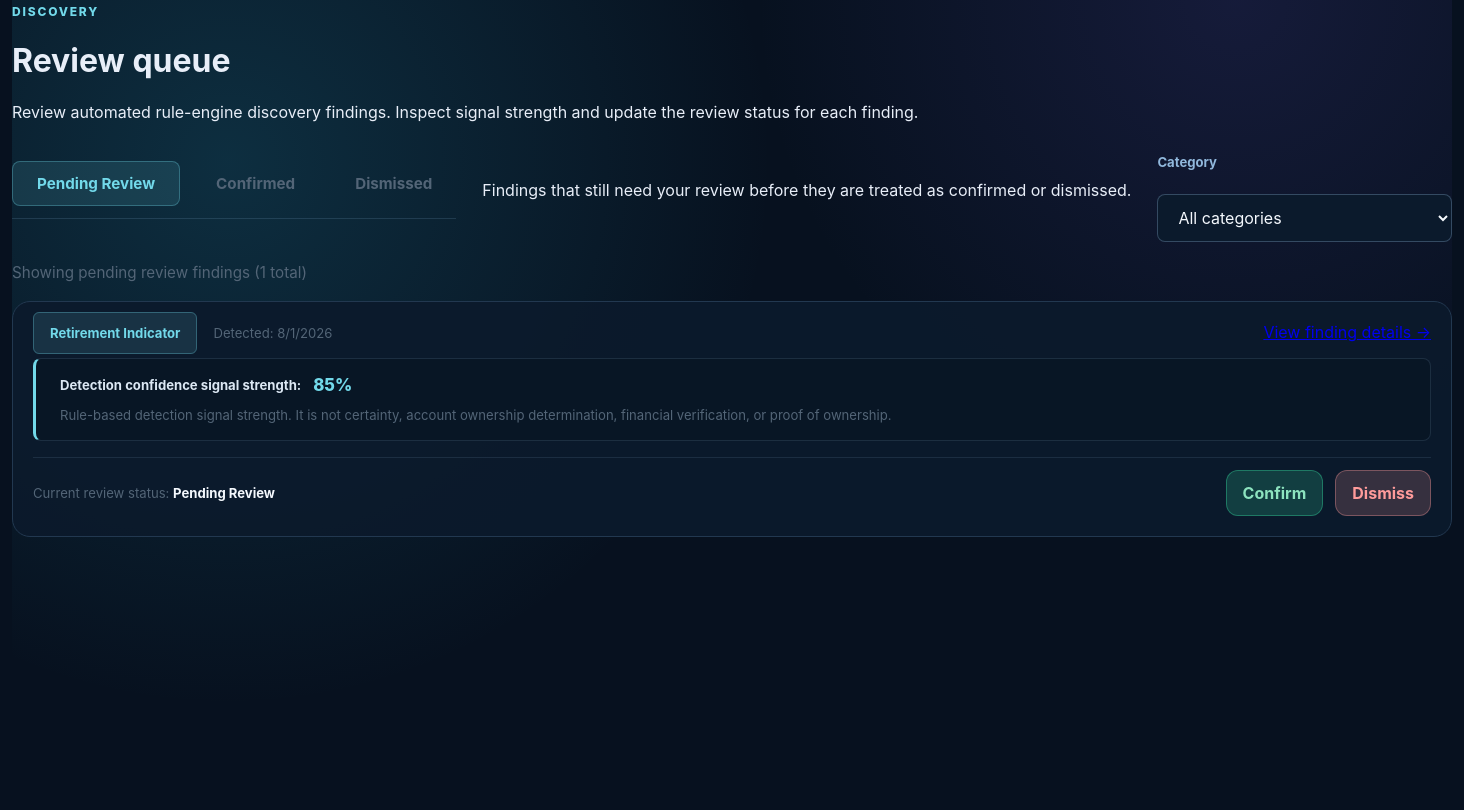
Test: ReviewQueuePage › summarizes the current review view and active category filter
Check: the text "Showing pending review findings (1 total)" is shown, box [12,263,307,282]
Select "Insurance Indicator" in the dropdown labelled "Category" at coordinates (1305, 218), box [1157,194,1452,242]
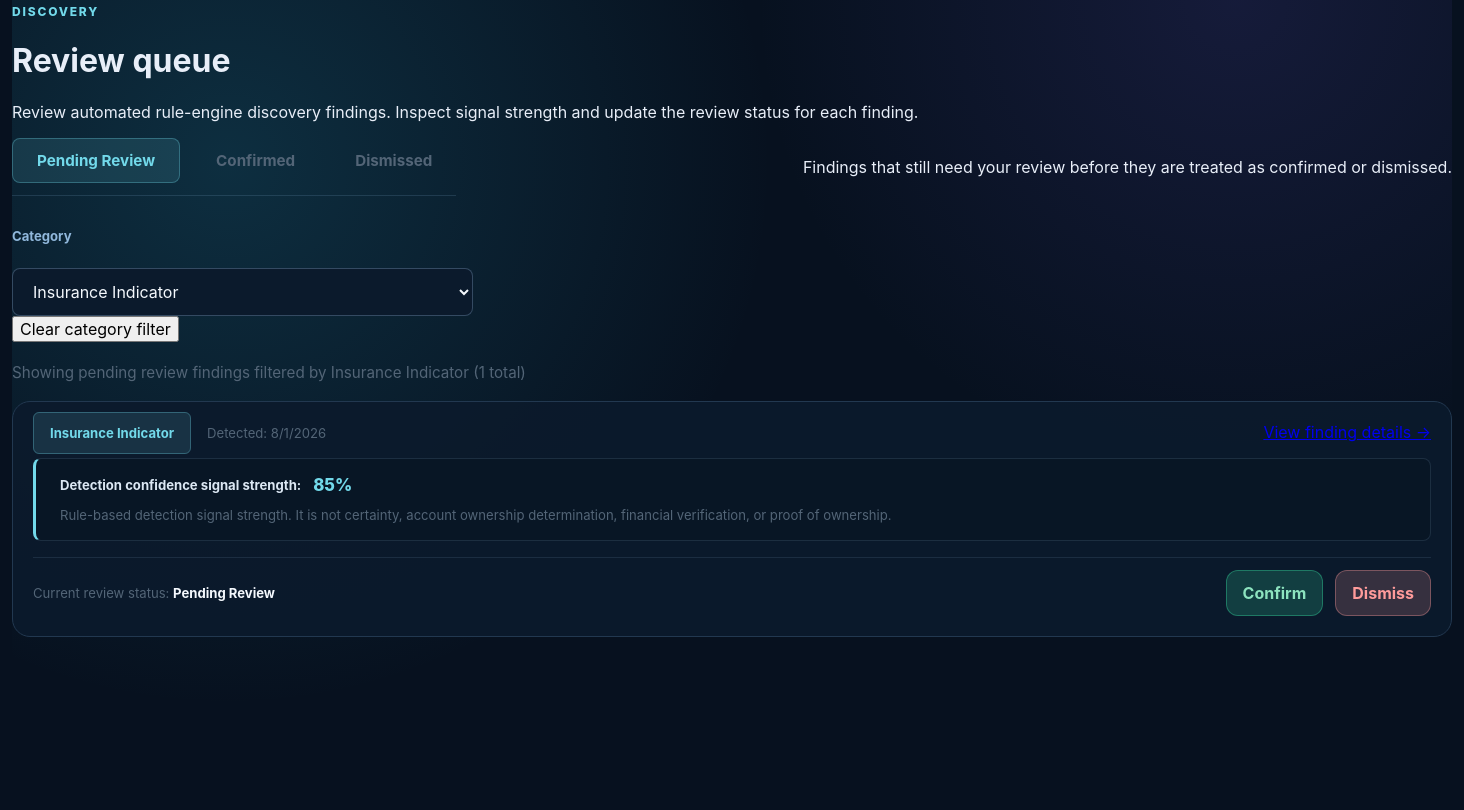
Check: the text "Showing pending review findings filtered by Insurance Indicator (1 total)" is shown, box [12,363,526,382]
Check: the button "Clear category filter" is shown, box [12,316,179,342]
